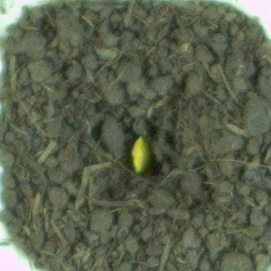chilli seed: (130, 134, 156, 176)
